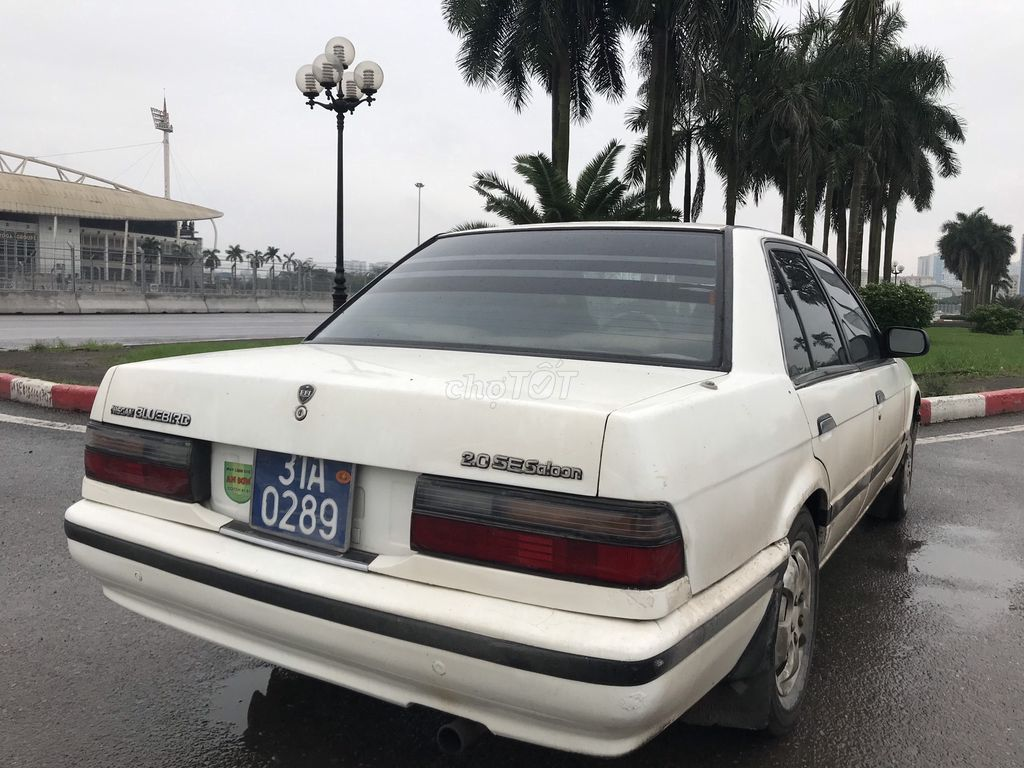plate: (243, 444, 361, 559)
